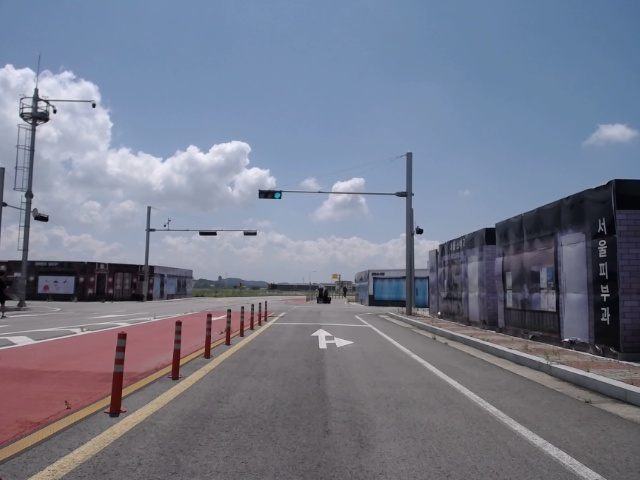green_3: (259, 190, 281, 198)
